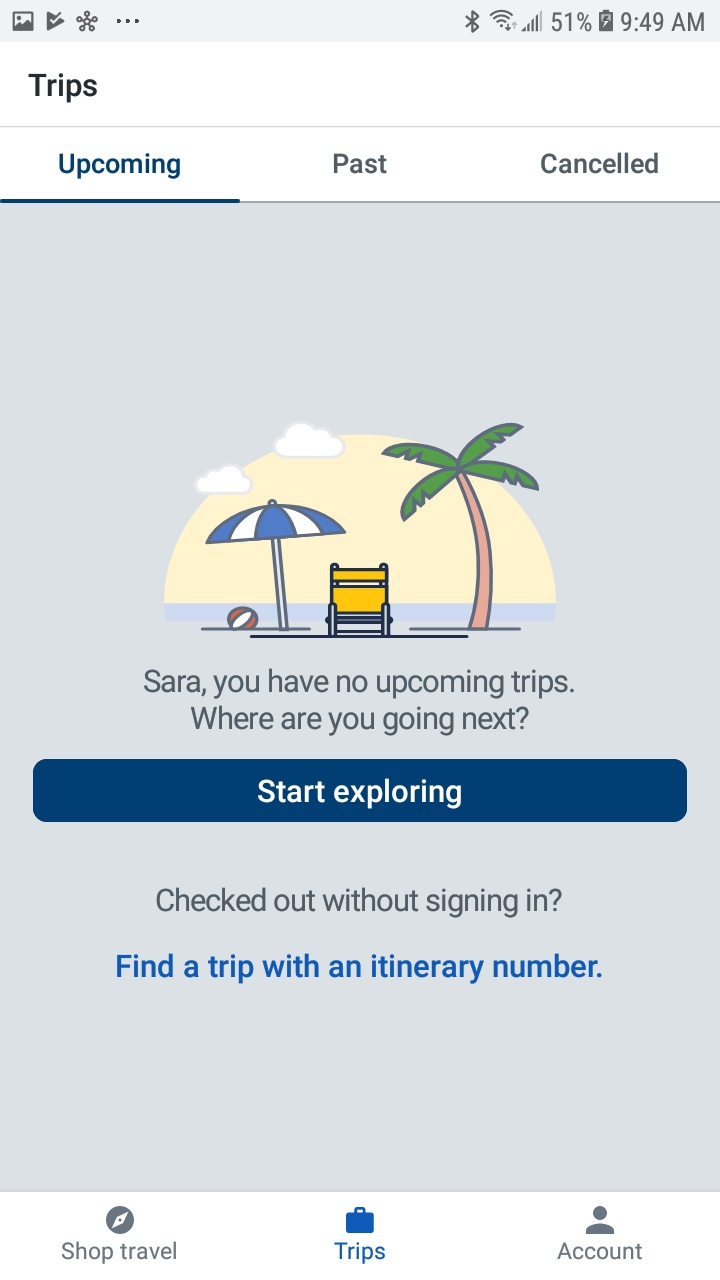Icon: (586, 1205, 615, 1235), (106, 1205, 135, 1234), (346, 1206, 375, 1233)
Image: (164, 420, 557, 640)
Text: (144, 668, 575, 737), (117, 953, 602, 985), (157, 887, 563, 919), (59, 153, 181, 180), (539, 151, 659, 174), (62, 1241, 177, 1264), (29, 73, 98, 104), (557, 1242, 643, 1260), (331, 150, 389, 174), (334, 1241, 386, 1264)
TextButton: (34, 759, 688, 823)
UpperTaskBar: (1, 1, 720, 43)
